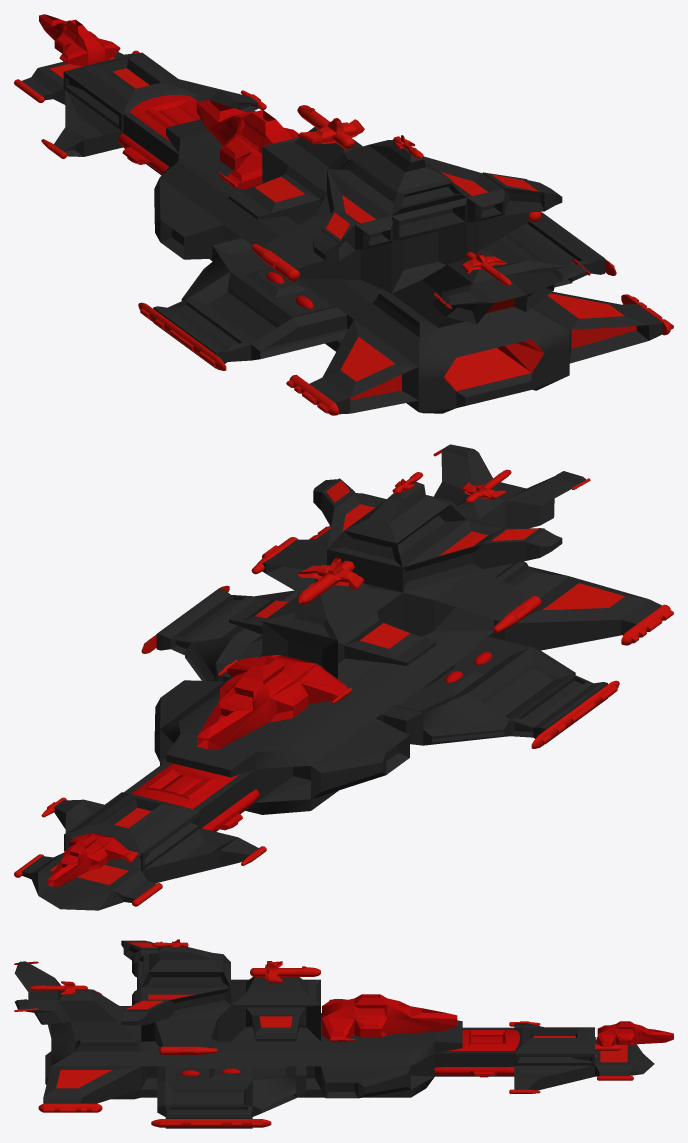
File: Invocateur.fbx
The picture shows the model from 3 angles, top to bottom: view 1: azimuth 30°, elevation 25°; view 2: azimuth 150°, elevation 25°; view 3: azimuth 270°, elevation 25°; orthographic projection. The views are drawn at different scales.
Parts seen in each view (by area): view 1: Invocateur, Invocation; view 2: Invocateur, Invocation; view 3: Invocateur, Invocation.
Boxes of the visible parts, bbox=[...] form: Invocateur: bbox=[14, 50, 673, 415]; Invocation: bbox=[39, 14, 120, 66]; Invocateur: bbox=[14, 444, 673, 910]; Invocation: bbox=[48, 833, 129, 886]; Invocateur: bbox=[14, 939, 654, 1128]; Invocation: bbox=[597, 1021, 673, 1046].
Size of the model in its own units: 7.84 by 16.07 by 3.78.
